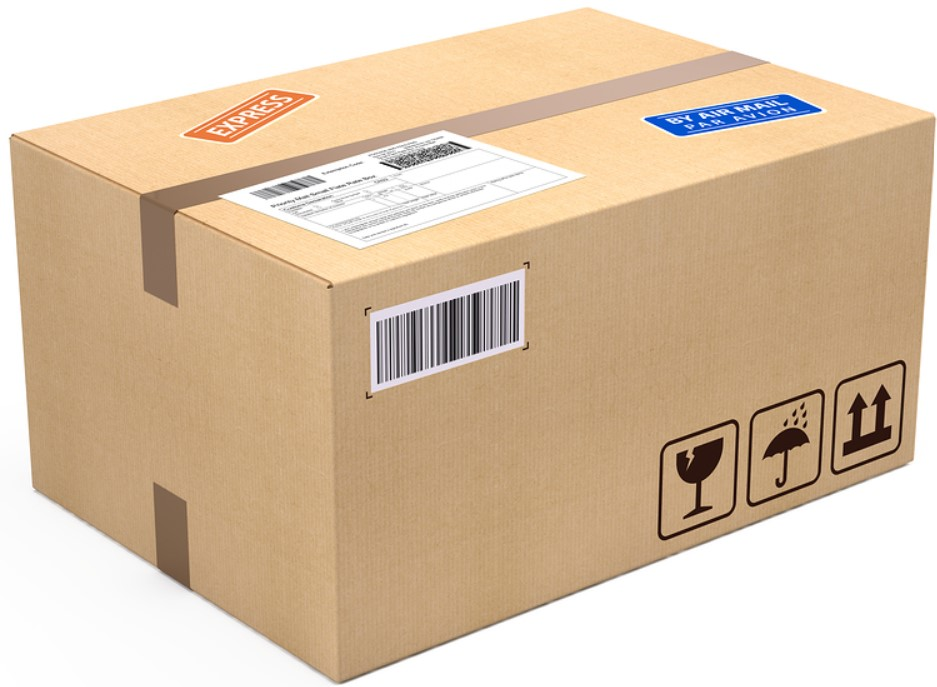stock: (9, 13, 935, 683)
